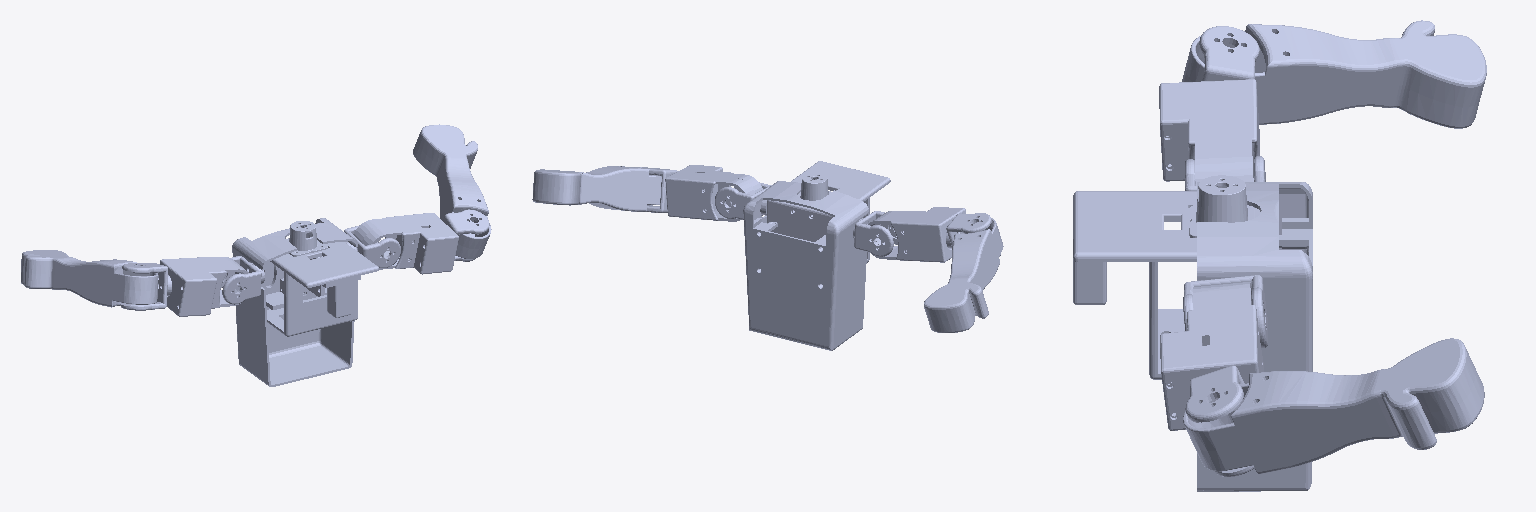
robot.urdf — flov2:
<?xml version="1.0" encoding="utf-8"?>
<!-- This URDF was automatically created by SolidWorks to URDF Exporter! Originally created by [author] ([email redacted]) 
     Commit Version: 1.6.0-4-g7f85cfe  Build Version: 1.6.7995.38578
     For more information, please see http://wiki.ros.org/sw_urdf_exporter -->
<robot
  name="flov2">
  <link
    name="base_link">
    <inertial>
      <origin
        xyz="7.53347513648417E-05 -0.0517564322706769 0.103083105603625"
        rpy="0 0 0" />
      <mass
        value="0.411096920186486" />
      <inertia
        ixx="0.000777346761704768"
        ixy="1.72546357053531E-06"
        ixz="3.18573945326303E-07"
        iyy="0.000809189457749475"
        iyz="4.70818433093879E-05"
        izz="0.000628127608082685" />
    </inertial>
    <visual>
      <origin
        xyz="0 0 0"
        rpy="0 0 0" />
      <geometry>
        <mesh
          filename="package://flov2/meshes/base_link.STL" />
      </geometry>
      <material
        name="">
        <color
          rgba="0.792156862745098 0.819607843137255 0.933333333333333 1" />
      </material>
    </visual>
    <collision>
      <origin
        xyz="0 0 0"
        rpy="0 0 0" />
      <geometry>
        <mesh
          filename="package://flov2/meshes/base_link.STL" />
      </geometry>
    </collision>
  </link>
  <link
    name="L1">
    <inertial>
      <origin
        xyz="1.48905722474613E-09 -1.45844986088051E-09 -0.0155738461318574"
        rpy="0 0 0" />
      <mass
        value="0.0215352043212417" />
      <inertia
        ixx="6.43260429128134E-06"
        ixy="-1.64918315678719E-11"
        ixz="1.80617856052557E-13"
        iyy="1.14424316265306E-05"
        iyz="-1.49771692039564E-13"
        izz="8.50517912691032E-06" />
    </inertial>
    <visual>
      <origin
        xyz="0 0 0"
        rpy="0 0 0" />
      <geometry>
        <mesh
          filename="package://flov2/meshes/L1.STL" />
      </geometry>
      <material
        name="">
        <color
          rgba="0.792156862745098 0.819607843137255 0.933333333333333 1" />
      </material>
    </visual>
    <collision>
      <origin
        xyz="0 0 0"
        rpy="0 0 0" />
      <geometry>
        <mesh
          filename="package://flov2/meshes/L1.STL" />
      </geometry>
    </collision>
  </link>
  <joint
    name="l1"
    type="revolute">
    <origin
      xyz="-0.0938040574073513 -0.0509682805214639 0.130501789182255"
      rpy="-1.57320341741765 -0.049370287896931 1.56991048766249" />
    <parent
      link="base_link" />
    <child
      link="L1" />
    <axis
      xyz="0 0 -1" />
    <limit
      lower="-3.14"
      upper="3.14"
      effort="100"
      velocity="1" />
  </joint>
  <link
    name="L2">
    <inertial>
      <origin
        xyz="0.0370794770496813 6.01665007013974E-05 -0.00561150423120081"
        rpy="0 0 0" />
      <mass
        value="0.142004328182954" />
      <inertia
        ixx="3.19807078365598E-05"
        ixy="-4.35455973306734E-08"
        ixz="2.24405030421614E-06"
        iyy="6.16421143447785E-05"
        iyz="9.77605499102352E-10"
        izz="6.84742565733564E-05" />
    </inertial>
    <visual>
      <origin
        xyz="0 0 0"
        rpy="0 0 0" />
      <geometry>
        <mesh
          filename="package://flov2/meshes/L2.STL" />
      </geometry>
      <material
        name="">
        <color
          rgba="0.792156862745098 0.819607843137255 0.933333333333333 1" />
      </material>
    </visual>
    <collision>
      <origin
        xyz="0 0 0"
        rpy="0 0 0" />
      <geometry>
        <mesh
          filename="package://flov2/meshes/L2.STL" />
      </geometry>
    </collision>
  </link>
  <joint
    name="l2"
    type="revolute">
    <origin
      xyz="0 0 0"
      rpy="-1.57079632679491 -1.38688581460649 -1.57079632679488" />
    <parent
      link="L1" />
    <child
      link="L2" />
    <axis
      xyz="0 0 -1" />
    <limit
      lower="-3.14"
      upper="3.14"
      effort="100"
      velocity="1" />
  </joint>
  <link
    name="L3">
    <inertial>
      <origin
        xyz="2.21867052507818E-10 4.23724749731846E-10 -0.015573846160944"
        rpy="0 0 0" />
      <mass
        value="0.0215352058223807" />
      <inertia
        ixx="6.43260450514852E-06"
        ixy="-1.69531055854438E-11"
        ixz="-5.96429571956571E-14"
        iyy="1.14424319697711E-05"
        iyz="1.59988846347624E-14"
        izz="8.50517953268872E-06" />
    </inertial>
    <visual>
      <origin
        xyz="0 0 0"
        rpy="0 0 0" />
      <geometry>
        <mesh
          filename="package://flov2/meshes/L3.STL" />
      </geometry>
      <material
        name="">
        <color
          rgba="0.792156862745098 0.819607843137255 0.933333333333333 1" />
      </material>
    </visual>
    <collision>
      <origin
        xyz="0 0 0"
        rpy="0 0 0" />
      <geometry>
        <mesh
          filename="package://flov2/meshes/L3.STL" />
      </geometry>
    </collision>
  </link>
  <joint
    name="l3"
    type="revolute">
    <origin
      xyz="0.1158 0 -0.0012"
      rpy="-1.5708 0.26115 -1.5708" />
    <parent
      link="L2" />
    <child
      link="L3" />
    <axis
      xyz="0 0 -1" />
    <limit
      lower="-3.14"
      upper="3.14"
      effort="100"
      velocity="1" />
  </joint>
  <link
    name="L4">
    <inertial>
      <origin
        xyz="0.054011861840731 -0.000585223019091474 -0.000434276238749226"
        rpy="0 0 0" />
      <mass
        value="0.123987301393138" />
      <inertia
        ixx="2.5522314824236E-05"
        ixy="5.69796357342498E-06"
        ixz="1.291360801618E-09"
        iyy="0.000227684932515927"
        iyz="4.88557547540023E-10"
        izz="0.000244794742303776" />
    </inertial>
    <visual>
      <origin
        xyz="0 0 0"
        rpy="0 0 0" />
      <geometry>
        <mesh
          filename="package://flov2/meshes/L4.STL" />
      </geometry>
      <material
        name="">
        <color
          rgba="0.792156862745098 0.819607843137255 0.933333333333333 1" />
      </material>
    </visual>
    <collision>
      <origin
        xyz="0 0 0"
        rpy="0 0 0" />
      <geometry>
        <mesh
          filename="package://flov2/meshes/L4.STL" />
      </geometry>
    </collision>
  </link>
  <joint
    name="l4"
    type="revolute">
    <origin
      xyz="0 0 0"
      rpy="1.5707963267949 -0.302966230227451 -1.5707963267949" />
    <parent
      link="L3" />
    <child
      link="L4" />
    <axis
      xyz="0 0 1" />
    <limit
      lower="-3.14"
      upper="3.14"
      effort="100"
      velocity="1" />
  </joint>
  <link
    name="R1">
    <inertial>
      <origin
        xyz="-7.3101036335288E-10 1.42214115483874E-09 -0.0155738461008338"
        rpy="0 0 0" />
      <mass
        value="0.0215352046092187" />
      <inertia
        ixx="6.43260432556564E-06"
        ixy="-1.67886054366163E-11"
        ixz="2.25506509706198E-15"
        iyy="1.14424316815474E-05"
        iyz="1.67144531197466E-13"
        izz="8.50517918879637E-06" />
    </inertial>
    <visual>
      <origin
        xyz="0 0 0"
        rpy="0 0 0" />
      <geometry>
        <mesh
          filename="package://flov2/meshes/R1.STL" />
      </geometry>
      <material
        name="">
        <color
          rgba="0.792156862745098 0.819607843137255 0.933333333333333 1" />
      </material>
    </visual>
    <collision>
      <origin
        xyz="0 0 0"
        rpy="0 0 0" />
      <geometry>
        <mesh
          filename="package://flov2/meshes/R1.STL" />
      </geometry>
    </collision>
  </link>
  <joint
    name="r1"
    type="revolute">
    <origin
      xyz="0.09279510924547 -0.0511557438776884 0.131033556238334"
      rpy="1.56837759398057 -0.109836205757756 1.5700568280532" />
    <parent
      link="base_link" />
    <child
      link="R1" />
    <axis
      xyz="0 0 -1" />
    <limit
      lower="-3.14"
      upper="3.14"
      effort="100"
      velocity="1" />
  </joint>
  <link
    name="R2">
    <inertial>
      <origin
        xyz="0.0370794699736247 6.01718120815387E-05 -0.0052115109687059"
        rpy="0 0 0" />
      <mass
        value="0.142004356223961" />
      <inertia
        ixx="3.198072926258E-05"
        ixy="-4.35330274713812E-08"
        ixz="2.24405200421591E-06"
        iyy="6.1642105916023E-05"
        iyz="9.83064282856538E-10"
        izz="6.84742779522144E-05" />
    </inertial>
    <visual>
      <origin
        xyz="0 0 0"
        rpy="0 0 0" />
      <geometry>
        <mesh
          filename="package://flov2/meshes/R2.STL" />
      </geometry>
      <material
        name="">
        <color
          rgba="0.792156862745098 0.819607843137255 0.933333333333333 1" />
      </material>
    </visual>
    <collision>
      <origin
        xyz="0 0 0"
        rpy="0 0 0" />
      <geometry>
        <mesh
          filename="package://flov2/meshes/R2.STL" />
      </geometry>
    </collision>
  </link>
  <joint
    name="r2"
    type="revolute">
    <origin
      xyz="0 0 0"
      rpy="-1.57079632679492 -1.42665704697169 -1.57079632679488" />
    <parent
      link="R1" />
    <child
      link="R2" />
    <axis
      xyz="0 0 -1" />
    <limit
      lower="-3.14"
      upper="3.14"
      effort="100"
      velocity="1" />
  </joint>
  <link
    name="R3">
    <inertial>
      <origin
        xyz="2.54169654767544E-09 -1.69163517915738E-09 -0.0155738437363972"
        rpy="0 0 0" />
      <mass
        value="0.0215352101067535" />
      <inertia
        ixx="6.43260432011342E-06"
        ixy="-1.6873445526951E-11"
        ixz="4.82256792386027E-14"
        iyy="1.14424323601872E-05"
        iyz="-2.20955616486998E-13"
        izz="8.50517969840653E-06" />
    </inertial>
    <visual>
      <origin
        xyz="0 0 0"
        rpy="0 0 0" />
      <geometry>
        <mesh
          filename="package://flov2/meshes/R3.STL" />
      </geometry>
      <material
        name="">
        <color
          rgba="0.792156862745098 0.819607843137255 0.933333333333333 1" />
      </material>
    </visual>
    <collision>
      <origin
        xyz="0 0 0"
        rpy="0 0 0" />
      <geometry>
        <mesh
          filename="package://flov2/meshes/R3.STL" />
      </geometry>
    </collision>
  </link>
  <joint
    name="r3"
    type="revolute">
    <origin
      xyz="0.1158 0 -0.000800000000002798"
      rpy="1.5707963267949 -0.26114885650053 1.5707963267949" />
    <parent
      link="R2" />
    <child
      link="R3" />
    <axis
      xyz="0 0 -1" />
    <limit
      lower="-3.14"
      upper="3.14"
      effort="100"
      velocity="1" />
  </joint>
  <link
    name="R4">
    <inertial>
      <origin
        xyz="0.054012022520983 0.000585991251745036 0.000436160147761988"
        rpy="0 0 0" />
      <mass
        value="0.123994982546424" />
      <inertia
        ixx="2.55222442076303E-05"
        ixy="-5.69775533688218E-06"
        ixz="-1.20975226399338E-09"
        iyy="0.000227684671227836"
        iyz="4.86560224751499E-10"
        izz="0.00024479434853081" />
    </inertial>
    <visual>
      <origin
        xyz="0 0 0"
        rpy="0 0 0" />
      <geometry>
        <mesh
          filename="package://flov2/meshes/R4.STL" />
      </geometry>
      <material
        name="">
        <color
          rgba="0.792156862745098 0.819607843137255 0.933333333333333 1" />
      </material>
    </visual>
    <collision>
      <origin
        xyz="0 0 0"
        rpy="0 0 0" />
      <geometry>
        <mesh
          filename="package://flov2/meshes/R4.STL" />
      </geometry>
    </collision>
  </link>
  <joint
    name="r4"
    type="revolute">
    <origin
      xyz="0 0 0"
      rpy="-1.5707963267949 -0.302966230228033 1.5707963267949" />
    <parent
      link="R3" />
    <child
      link="R4" />
    <axis
      xyz="0 0 1" />
    <limit
      lower="-3.14"
      upper="3.14"
      effort="100"
      velocity="1" />
  </joint>
</robot>

--- What the picture shows (computed from the rendered views, not written in the file) ---
Views: 3 orthographic renders of the robot side by side, from view 1: azimuth 30°, elevation 25°; view 2: azimuth 150°, elevation 25°; view 3: azimuth 270°, elevation 25°.
Robot: flov2 — 9 links, 8 joints (8 revolute); root link base_link; default pose: every joint at zero.
Links seen in each view (by area): view 1: base_link, L4, R4, R2, L2, L1, L3, R1, R3; view 2: base_link, L4, R4, R2, L2, L1, R1, L3; view 3: base_link, R4, L4, L2, R2, L3, R3, R1, L1.
Boxes of the visible links, <box> form: base_link: <box>232,218,378,386</box>; L4: <box>21,250,158,307</box>; R4: <box>413,124,491,258</box>; R2: <box>353,213,458,274</box>; L2: <box>160,257,248,316</box>; L1: <box>221,256,264,304</box>; L3: <box>120,263,171,310</box>; R1: <box>344,225,400,268</box>; R3: <box>443,209,489,261</box>; base_link: <box>743,161,890,350</box>; L4: <box>924,218,1003,332</box>; R4: <box>532,166,661,211</box>; R2: <box>665,165,762,221</box>; L2: <box>868,207,965,262</box>; L1: <box>853,211,904,256</box>; R1: <box>715,182,771,219</box>; L3: <box>946,213,1000,255</box>; base_link: <box>1073,175,1312,491</box>; R4: <box>1183,338,1484,473</box>; L4: <box>1182,20,1486,128</box>; L2: <box>1159,79,1259,185</box>; R2: <box>1160,281,1263,430</box>; L3: <box>1199,26,1259,80</box>; R3: <box>1185,365,1254,476</box>; R1: <box>1183,275,1267,347</box>; L1: <box>1185,156,1265,190</box>.
Size in the robot's own frame: 0.5639 by 0.2438 by 0.1838 metres.
Meshes: 9 distinct files referenced, 9 mesh visuals loaded (9 binary STL).